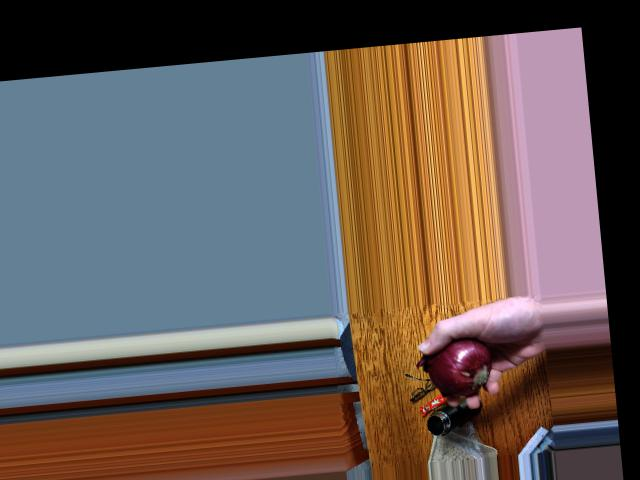onion: (428, 343, 480, 394)
